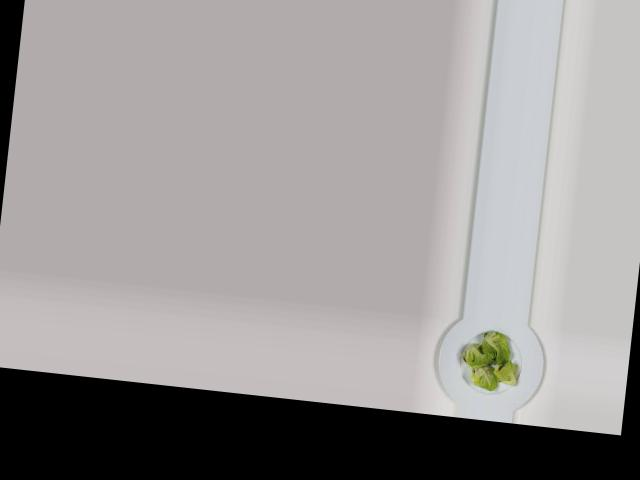lettuce: (457, 322, 524, 392)
